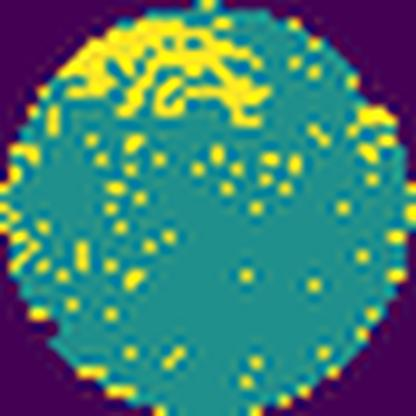Loc: (61, 14, 274, 127)
